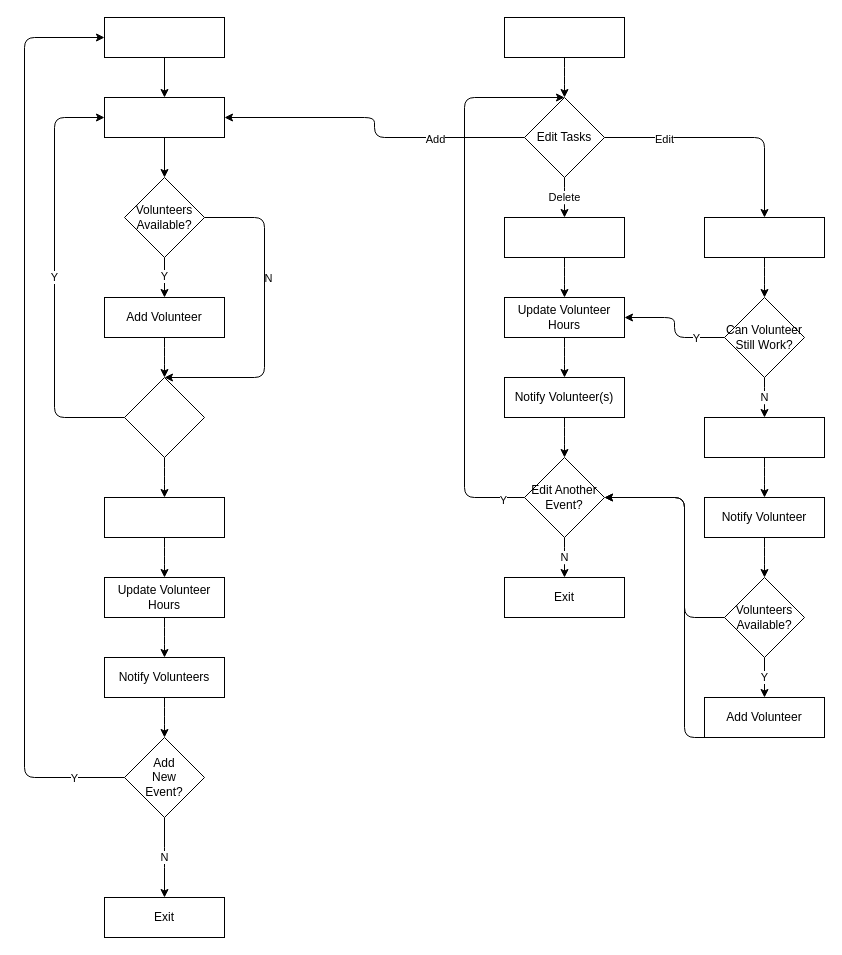
The diagram is 842 pixels wide and 955 high, and some of its shapes have lost their labels. Each missing label, with the centre of its shape:
Add New Task?: the point at 164,417
Add Tasks: the point at 164,117
Create New Event: the point at 164,37
Delete Event: the point at 564,237
Delete Volunteer Hours: the point at 764,437
Edit Event: the point at 564,37
Save Event: the point at 164,517
Save Event Changes: the point at 764,237
